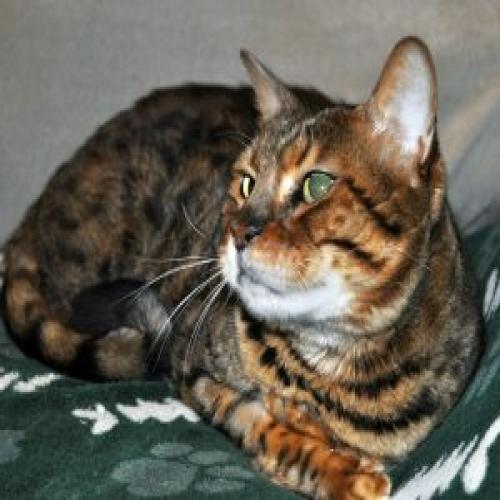cat-face: (215, 31, 450, 330)
